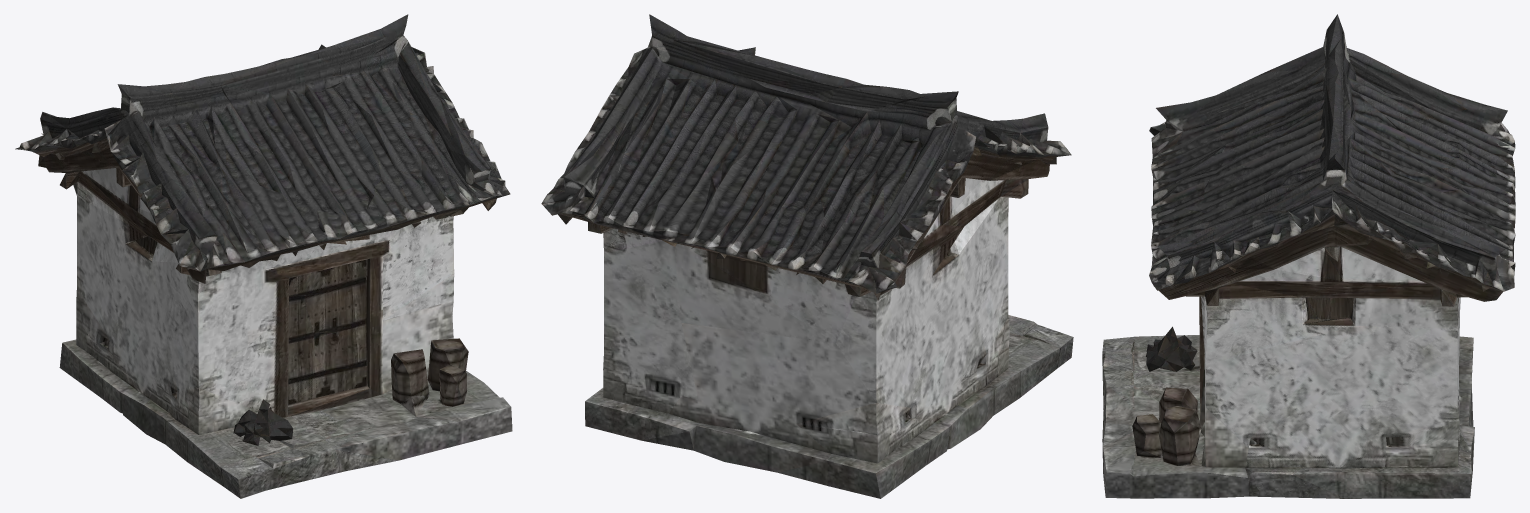
File: magazine.glb
The picture shows the model from 3 angles, left to right: view 1: azimuth 30°, elevation 25°; view 2: azimuth 150°, elevation 25°; view 3: azimuth 270°, elevation 25°; orthographic projection. The views are drawn at different scales.
Visible parts, largest first — view 1: Mesh_0; view 2: Mesh_0; view 3: Mesh_0.
Part boxes in pixels (x1=…): Mesh_0: x1=15, y1=14, x2=512, y2=498; Mesh_0: x1=541, y1=14, x2=1073, y2=498; Mesh_0: x1=1102, y1=14, x2=1515, y2=498.
Bounding box in the file's own units: 1.8 × 1.73 × 1.89.
1 material, 1 textured.
